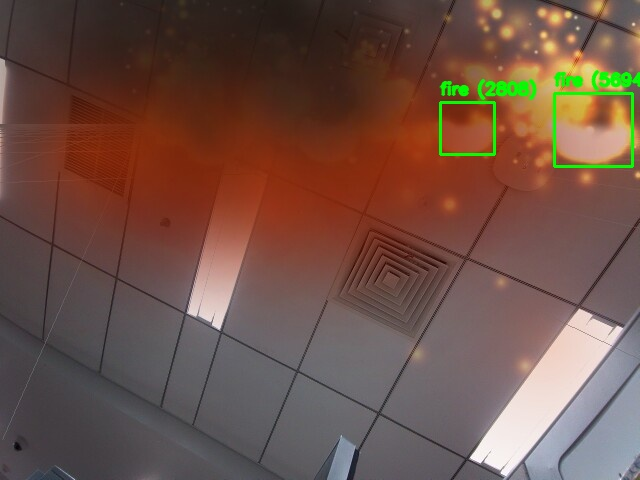fire: (554, 93, 632, 166), (440, 102, 494, 154)
